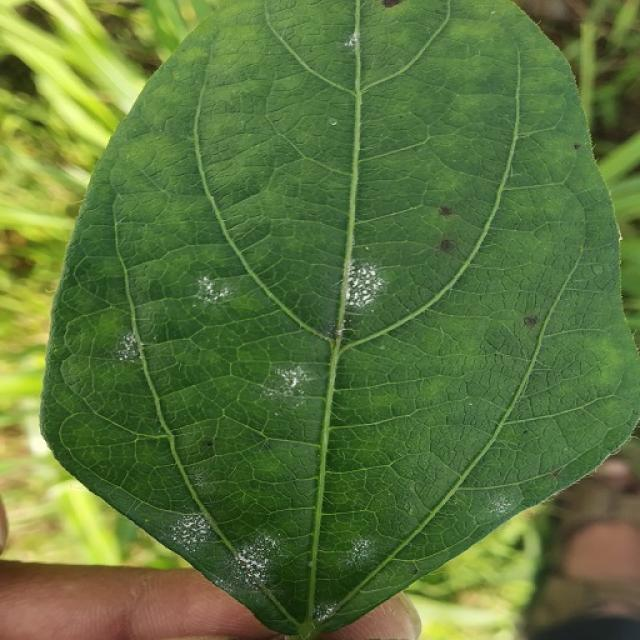Blackgram: (42, 0, 639, 634)
Powdery_Mildew: (113, 285, 239, 366), (343, 256, 382, 311), (230, 539, 277, 582), (269, 365, 315, 400), (174, 518, 213, 549), (194, 274, 233, 304), (114, 331, 140, 359), (345, 537, 371, 564), (487, 494, 512, 515), (313, 602, 337, 622), (199, 276, 214, 295), (344, 32, 358, 48), (333, 326, 347, 339), (593, 265, 604, 275), (307, 559, 315, 568), (329, 119, 337, 126), (618, 233, 623, 242), (365, 246, 369, 251)
